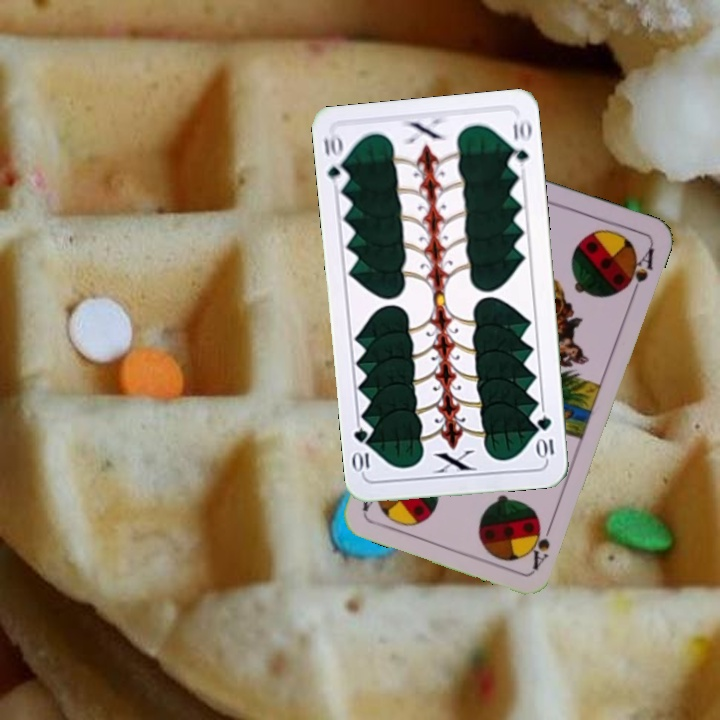G10: (319, 131, 351, 190), (533, 411, 557, 462)
SA: (528, 514, 557, 572)
